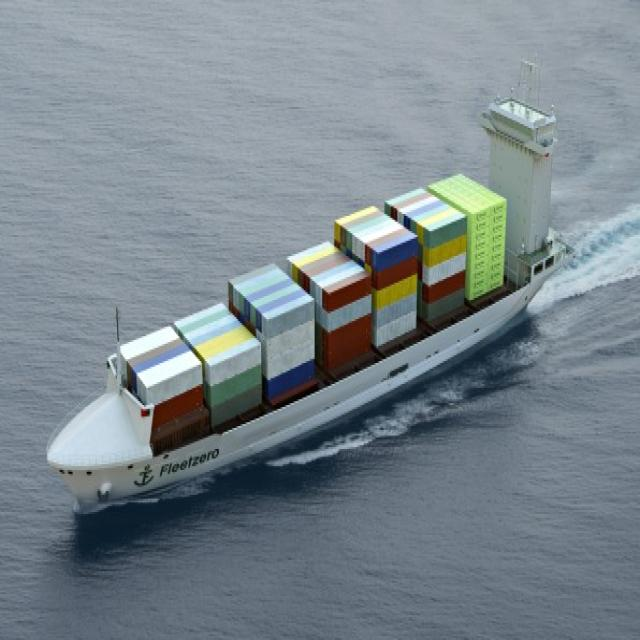boat: (26, 86, 594, 529)
